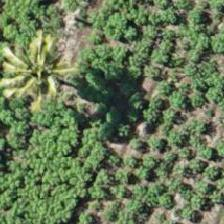coconut_tree: (84, 33, 174, 123), (0, 21, 86, 111)
